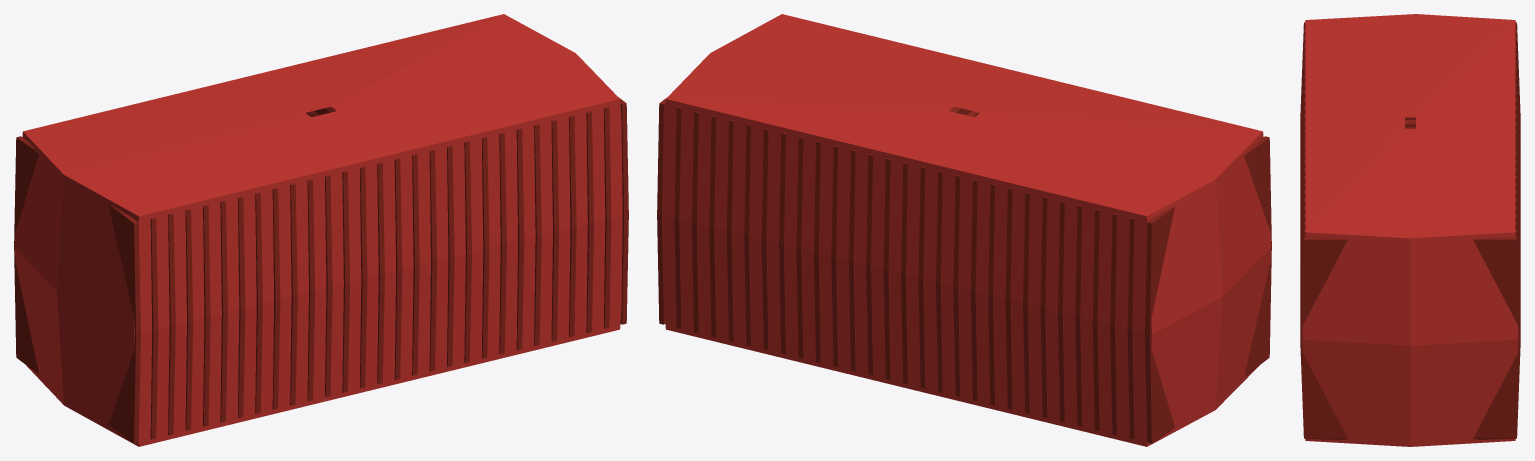
File: s-container-1.glb
3 views of the same model, side by side, from view 1: azimuth 30°, elevation 25°; view 2: azimuth 150°, elevation 25°; view 3: azimuth 270°, elevation 25° (orthographic). The views are drawn at different scales.
Parts seen in each view (by area): view 1: p; view 2: p; view 3: p.
Part boxes in pixels (<box>): p: <box>14,14,628,446</box>; p: <box>657,14,1271,446</box>; p: <box>1300,14,1520,446</box>.
Bounding box in the file's own units: 6 × 2.6 × 2.42.
